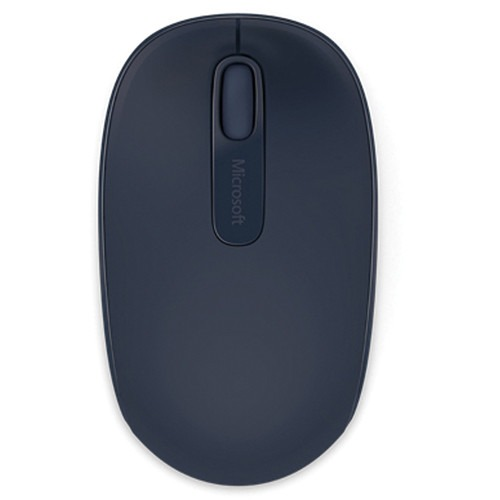mouse: (97, 5, 371, 486)
